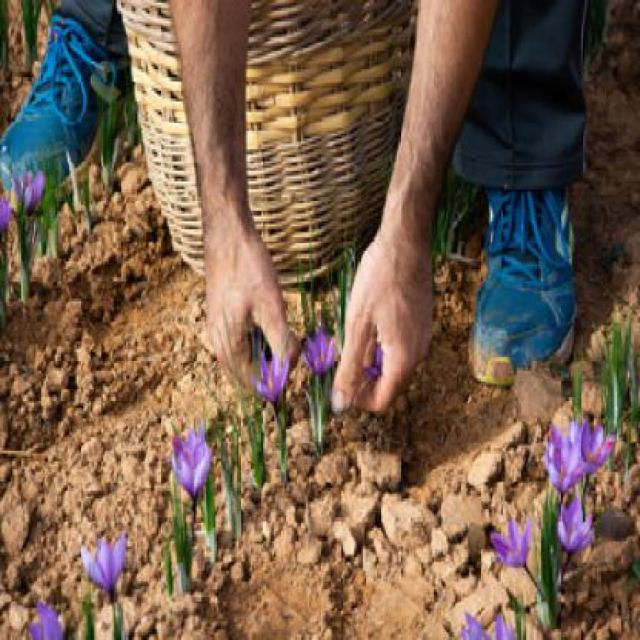Flower: (167, 424, 211, 504), (78, 532, 130, 596), (556, 492, 604, 560), (540, 422, 580, 502), (576, 413, 616, 492), (6, 163, 52, 220), (257, 345, 294, 412), (502, 515, 541, 574), (302, 332, 340, 386)
